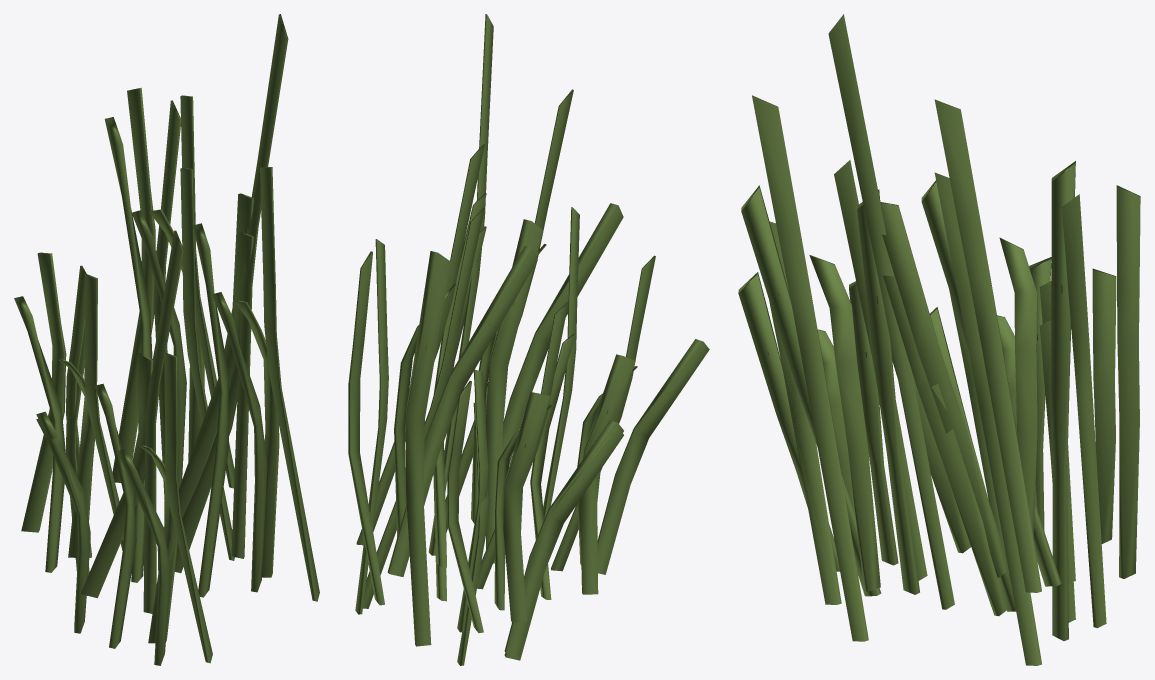
The model's file is turtleGrass.fbx.
3 views of the same model, side by side, from view 1: azimuth 30°, elevation 25°; view 2: azimuth 150°, elevation 25°; view 3: azimuth 270°, elevation 25° (orthographic). The views are drawn at different scales.
Parts seen in each view (by area): view 1: Cube.007, Cube.029, Cube, Cube.005, Cube.019, Cube.038, Cube.030, SeaGrass, Sea_Grass, Cube.017, Cube.028, Cube.006 (+27 smaller); view 2: Cube.030, Cube.006, Cube, Cube.033, Cube.036, SeaGrass, Cube.007, Cube.045, Cube.038, Cube.012, Cube.015, Cube.021 (+27 smaller); view 3: Cube.005, Cube.011, Cube.002, Cube.007, Cube.038, Sea_Grass, Cube.031, Cube.006, Cube.028, Cube.030, Cube.019, Cube (+24 smaller).
Boxes of the visible parts, box(x1,y1,x2,y2) form: Cube.007: box(112, 87, 155, 482); Cube.029: box(231, 14, 288, 558); Cube: box(193, 223, 228, 597); Cube.005: box(260, 167, 319, 601); Cube.019: box(21, 252, 66, 532); Cube.038: box(180, 168, 234, 560); Cube.030: box(116, 293, 264, 658); SeaGrass: box(212, 292, 267, 592); Sea_Grass: box(178, 193, 253, 517); Cube.017: box(164, 354, 212, 663); Cube.028: box(174, 232, 253, 573); Cube.006: box(104, 117, 152, 582); Cube.030: box(502, 203, 700, 574); Cube.006: box(406, 251, 450, 645); Cube: box(485, 220, 541, 563); Cube.033: box(406, 251, 448, 646); Cube.036: box(389, 246, 537, 576); SeaGrass: box(502, 203, 623, 465); Cube.007: box(348, 251, 384, 605); Cube.045: box(503, 392, 550, 610); Cube.038: box(363, 207, 484, 608); Cube.012: box(580, 359, 629, 594); Cube.015: box(601, 339, 709, 566); Cube.021: box(504, 420, 623, 656); Cube.005: box(752, 95, 868, 641); Cube.011: box(934, 99, 1041, 592); Cube.002: box(828, 14, 954, 609); Cube.007: box(1116, 185, 1140, 578); Cube.038: box(934, 172, 1041, 665); Sea_Grass: box(880, 202, 1008, 577); Cube.031: box(811, 259, 880, 591); Cube.006: box(1051, 161, 1075, 640); Cube.028: box(883, 273, 1010, 616); Cube.030: box(738, 186, 857, 604); Cube.019: box(1092, 268, 1116, 543); Cube: box(857, 189, 916, 594).
Bounding box in the file's own units: 213 × 511 × 284.
